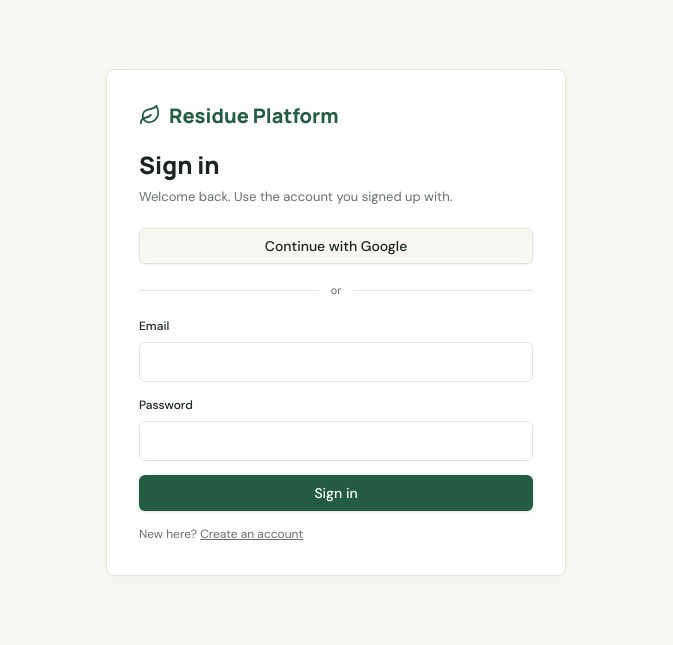
Test case: an unregistered account moves on to the role step once the lookup answers
In the field labelled "Email": (336, 362) [139,342,533,382], type "a@b.pk"
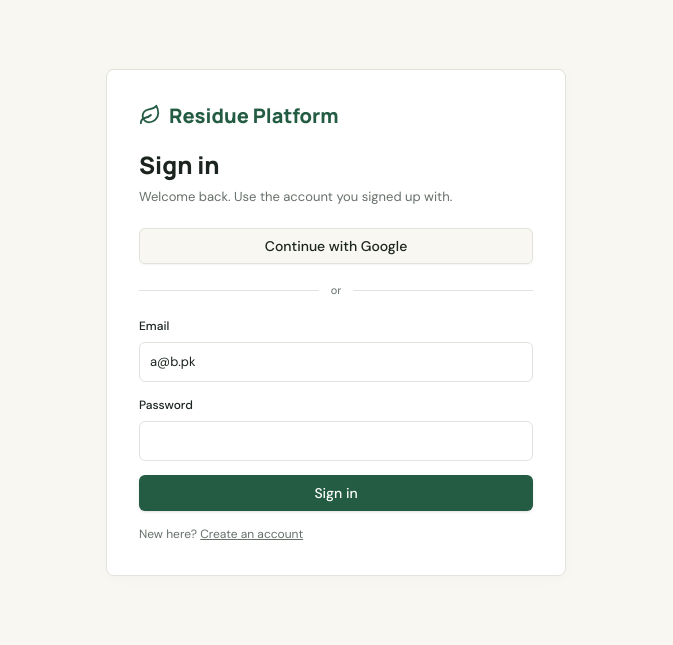
In the password field labelled "Password": (336, 440) [139,420,533,460], type "secret123"
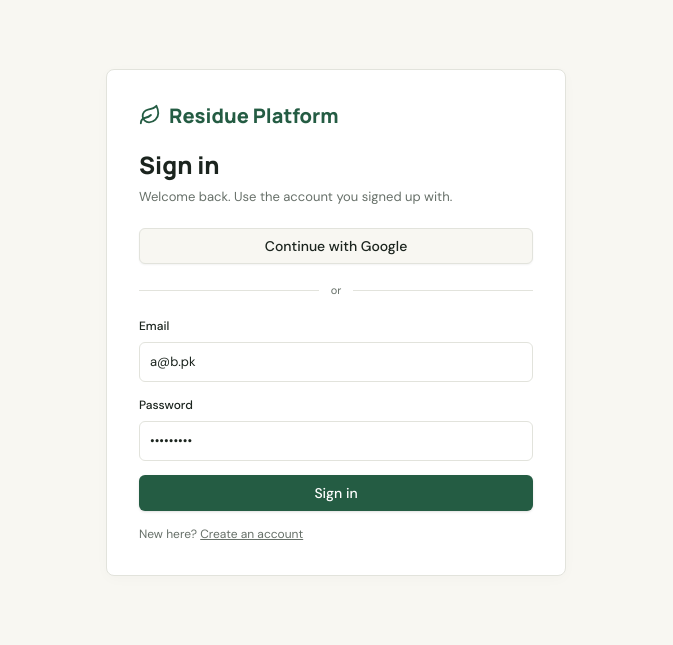
Click the button "Sign in": (336, 492) [139,474,533,510]
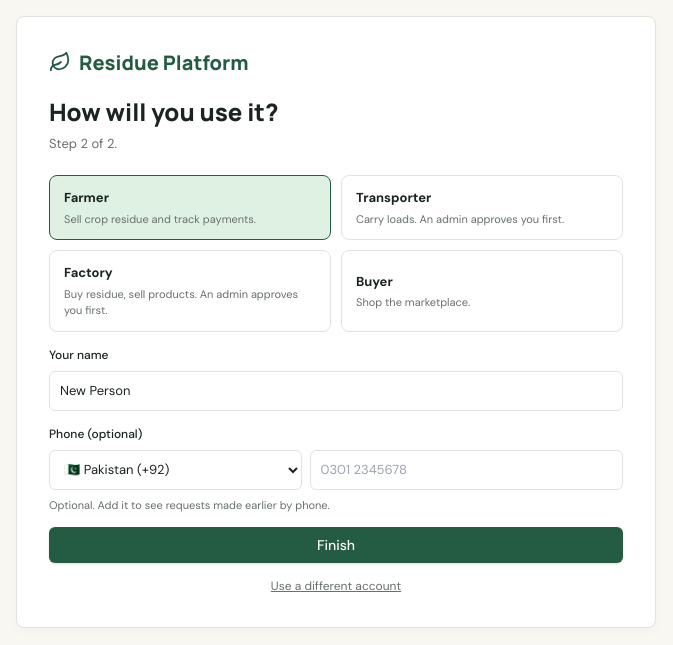
Expected: the heading "How will you use it?" is shown, [49,95,278,128]
Expected: the field labelled "Your name" holds "New Person", [49,371,623,411]
